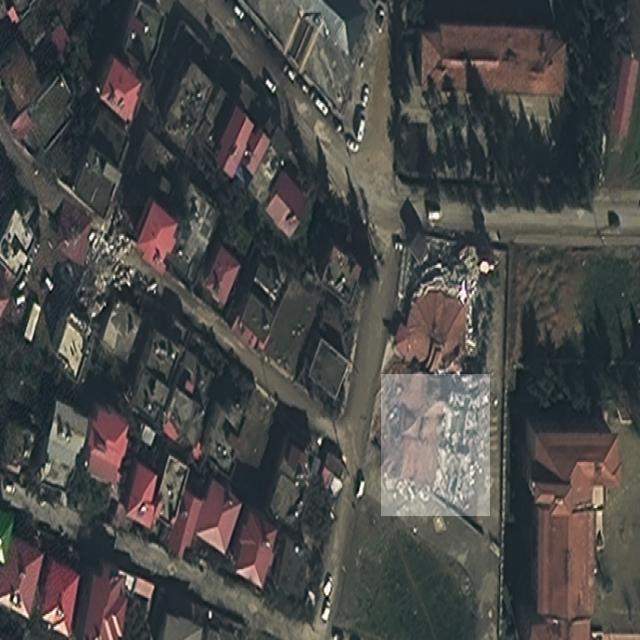Rubble: (381, 374, 490, 516), (404, 233, 498, 374), (80, 205, 150, 312)
